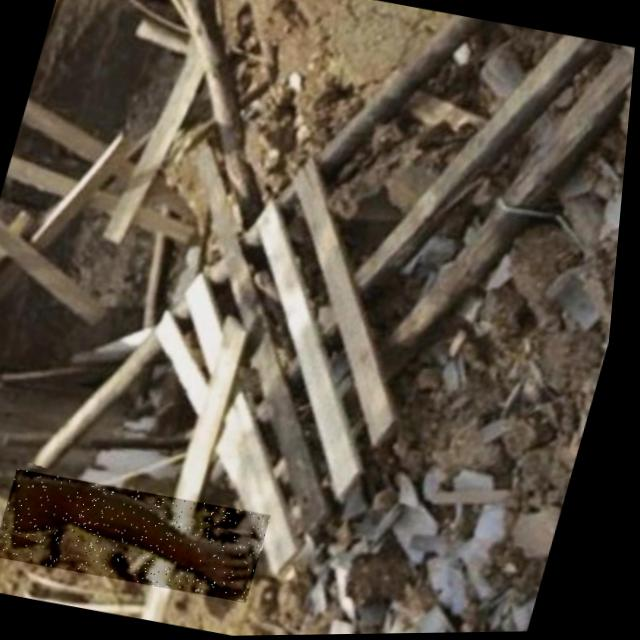Person in Rubble: (0, 465, 284, 606)
